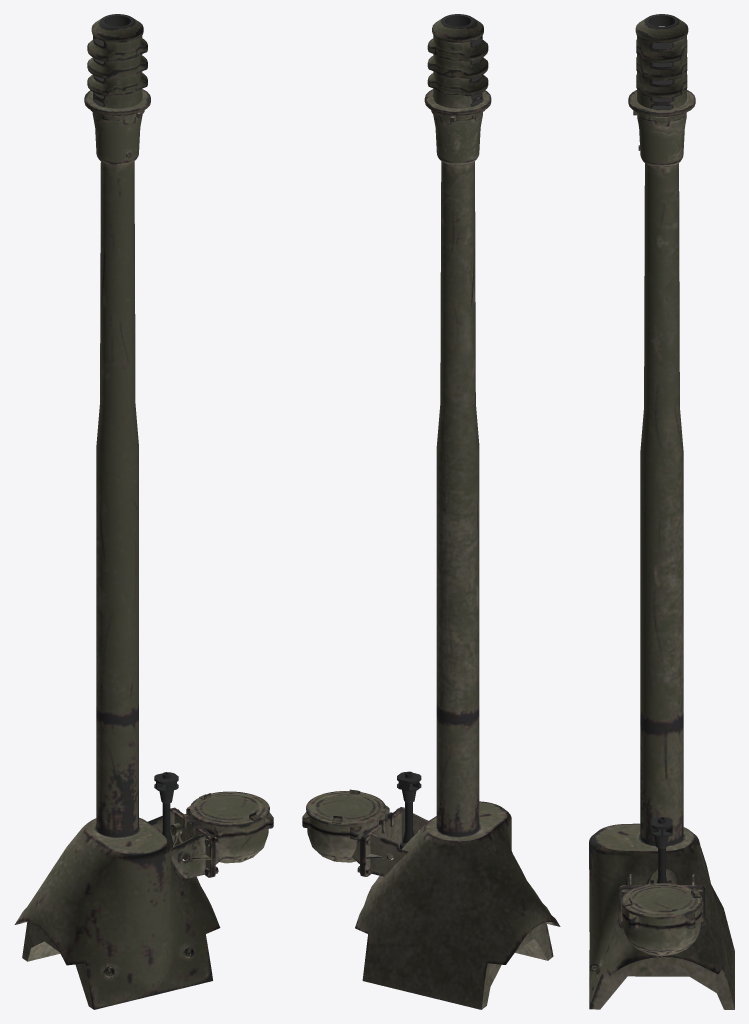
File: Gun_01.glb
3 views of the same model, side by side, from view 1: azimuth 30°, elevation 25°; view 2: azimuth 150°, elevation 25°; view 3: azimuth 270°, elevation 25° (orthographic).
Visible parts, largest first — view 1: set_0_group_0; view 2: set_0_group_0; view 3: set_0_group_0.
Boxes of the visible parts, x1,y1,x2,y2 form: set_0_group_0: (14, 14, 273, 1009); set_0_group_0: (302, 14, 560, 1009); set_0_group_0: (589, 14, 734, 1009).
Size of the model in its own units: 1.13 by 4.53 by 0.6249.
Materials: 1 (1 with a texture image).
